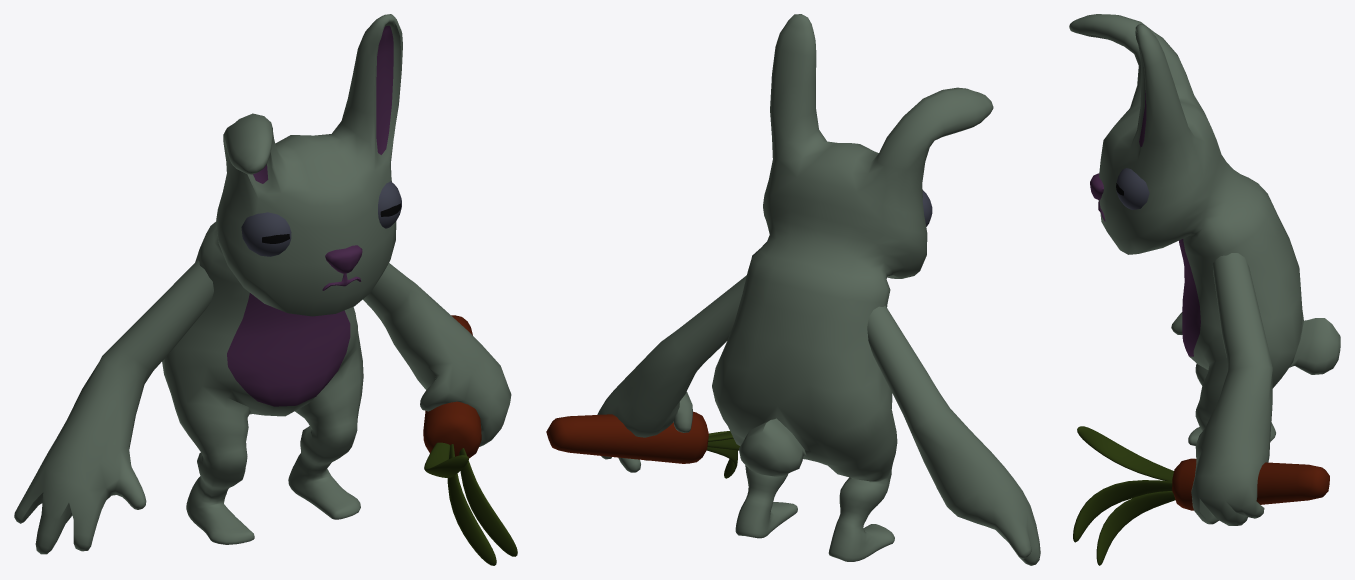
Rendered from Bunny.obj.
3 renders of one model, left to right at view 1: azimuth 30°, elevation 25°; view 2: azimuth 150°, elevation 25°; view 3: azimuth 270°, elevation 25°, orthographic. The views are drawn at different scales.
Visible parts, largest first — view 1: Bunny_Cube.074, Carrot_Cube.077; view 2: Bunny_Cube.074, Carrot_Cube.077; view 3: Bunny_Cube.074, Carrot_Cube.077.
Part boxes in pixels (x1=…): Bunny_Cube.074: x1=14, y1=14, x2=511, y2=554; Carrot_Cube.077: x1=423, y1=315, x2=517, y2=565; Bunny_Cube.074: x1=597, y1=14, x2=1040, y2=565; Carrot_Cube.077: x1=546, y1=411, x2=739, y2=478; Bunny_Cube.074: x1=1069, y1=14, x2=1340, y2=525; Carrot_Cube.077: x1=1073, y1=426, x2=1329, y2=565.
Size of the model in its own units: 3.21 by 3.44 by 1.71.
